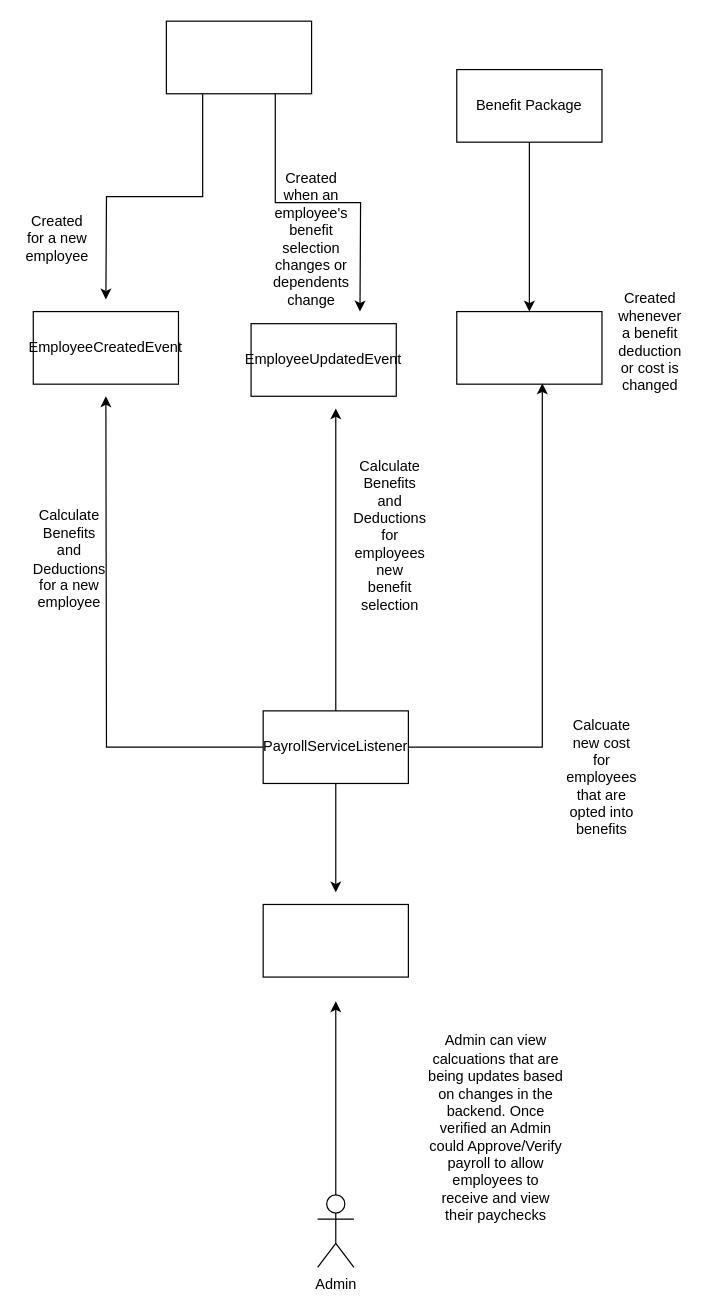
Image size: 707x1314. Some labels were removed from this diagram. Here are the shapes that lost their labels. From the top down, the centre of each, then its label:
[238,57]: Employee
[529,347]: BenefitUpdatedEvent
[335,940]: Payroll
